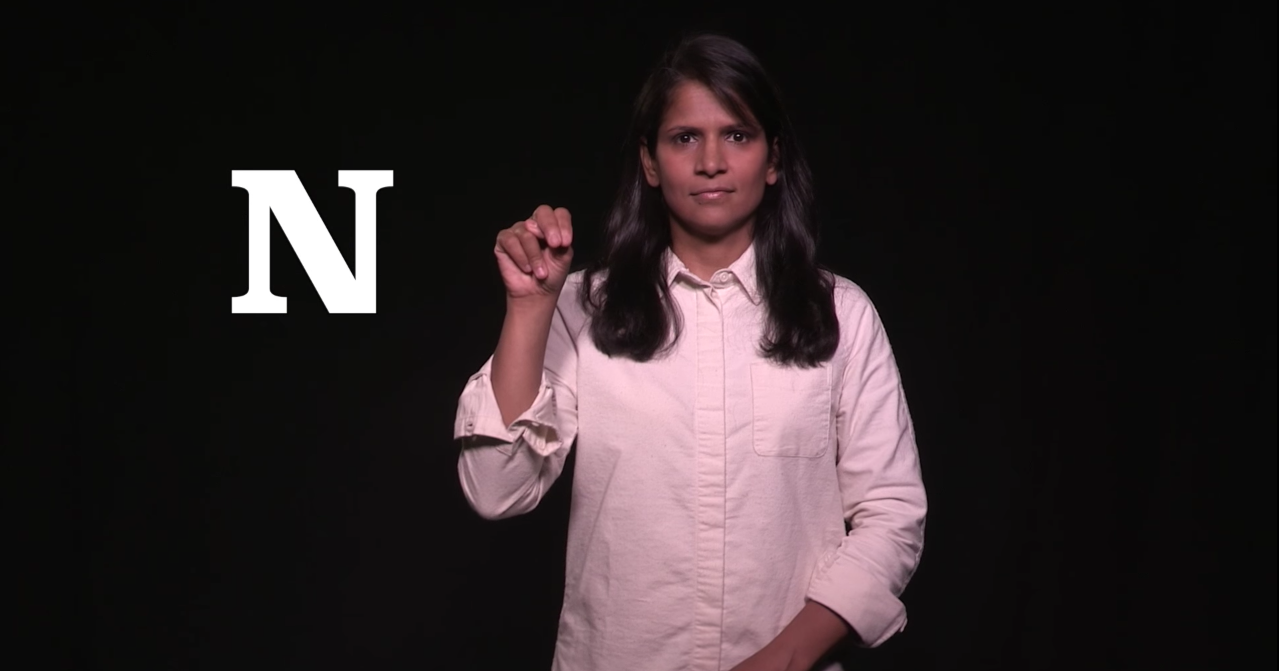n: (467, 189, 603, 315)
